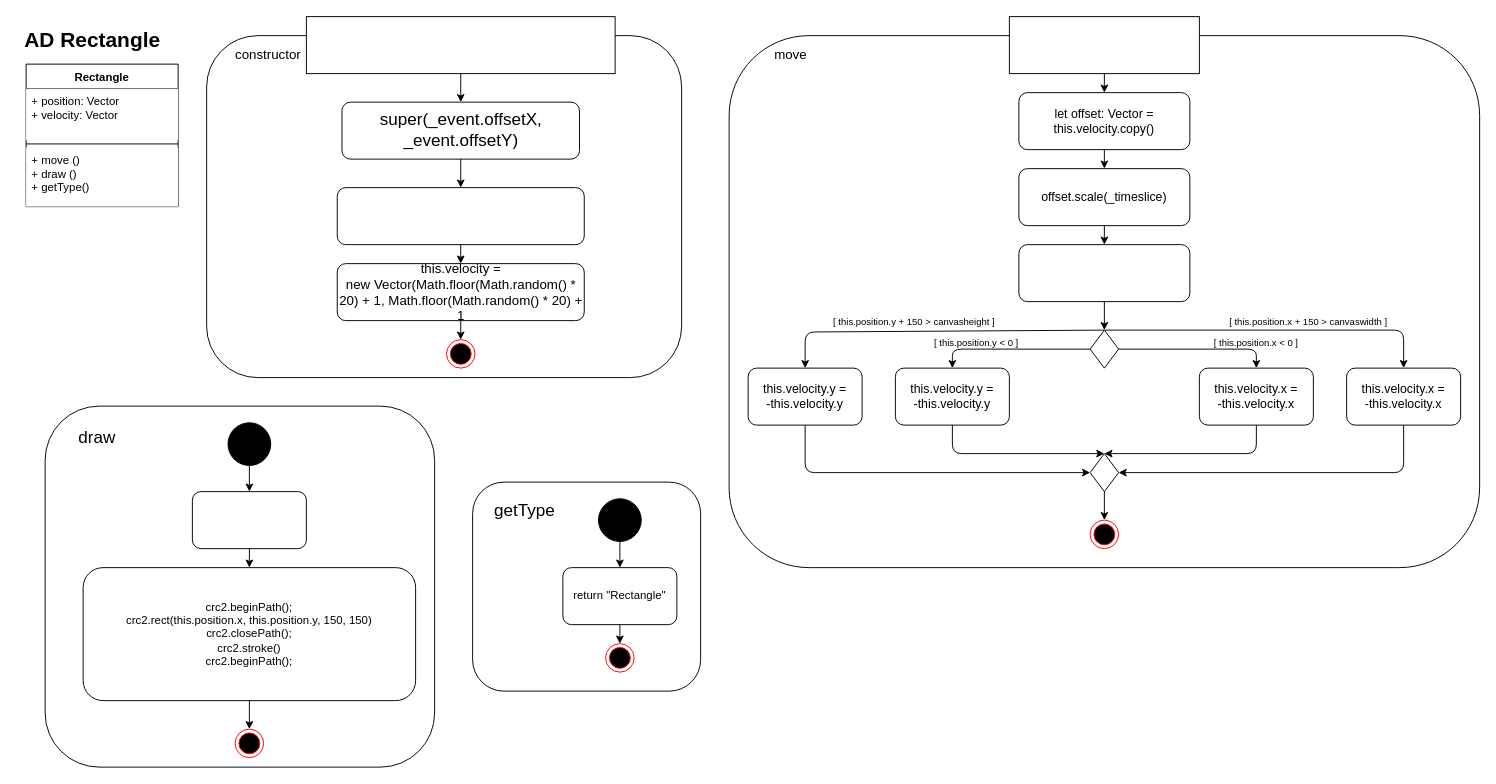
Image size: 1496x784. Some labels were removed from this diagram. Here are the shapes that lost their labels. From the top down, the centre of each, then its label:
At point (460, 45): "_event: MouseEvent".
At point (1103, 45): "_timeslice: number".
At point (460, 216): "this.position = new Vector(_event.offsetX - 75, _event.offsetY - 75)".
At point (1104, 273): "this.position.add(offset)".
At point (248, 520): "crc2.beginPath()".
